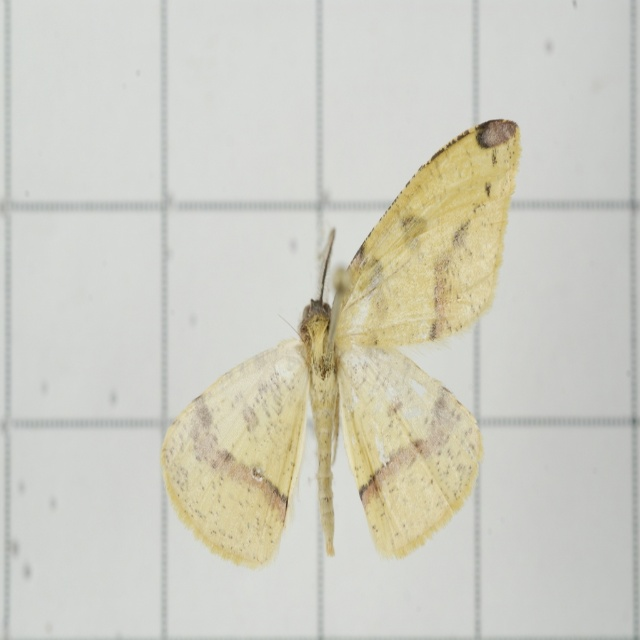Butterfly: (166, 132, 518, 568)
